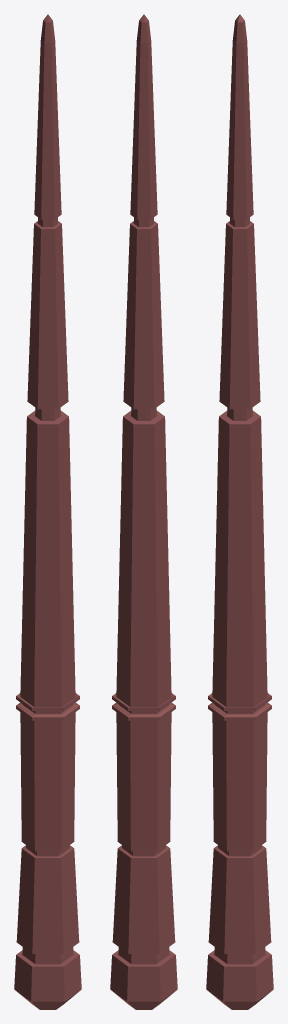
Rendered from magic-staff-by-khiem012156-nWc7km4sOd.glb.
The picture shows the model from 3 angles, left to right: view 1: azimuth 90°, elevation 25°; view 2: azimuth 210°, elevation 25°; view 3: azimuth 270°, elevation 25°; orthographic projection.
Visible parts, largest first — view 1: Wand; view 2: Wand; view 3: Wand.
Part boxes in pixels (x1,y1,x2,y2): Wand: (14, 14, 81, 1009); Wand: (110, 14, 177, 1009); Wand: (206, 14, 273, 1009).
Size of the model in its own units: 0.2646 by 4.94 by 0.3055.
